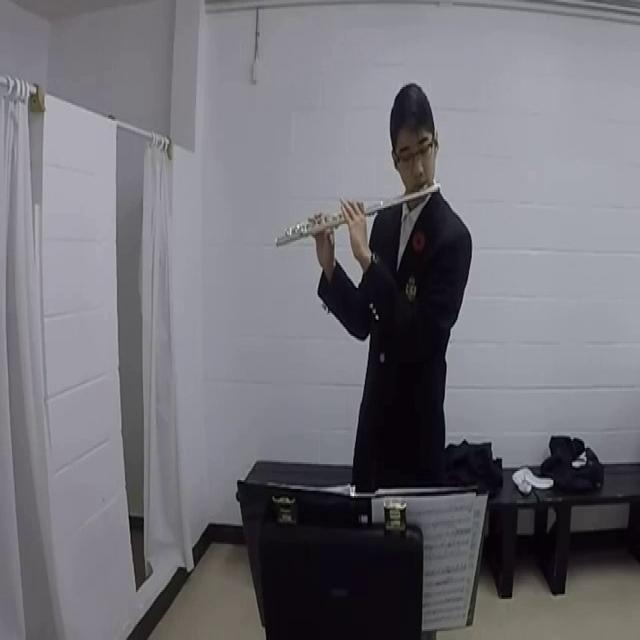Flute: (277, 170, 449, 265)
